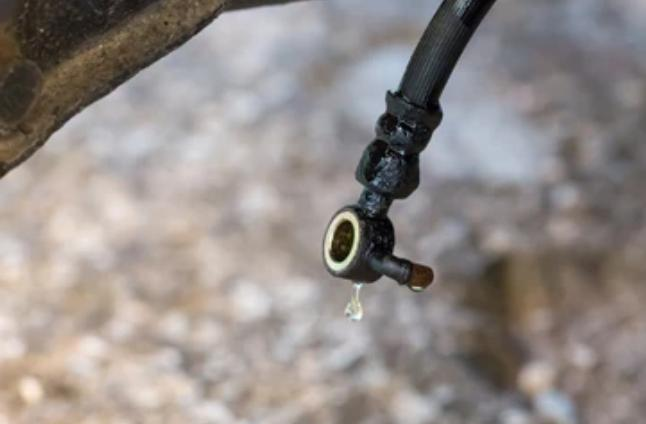water drop: (345, 279, 363, 321), (409, 284, 426, 292)
